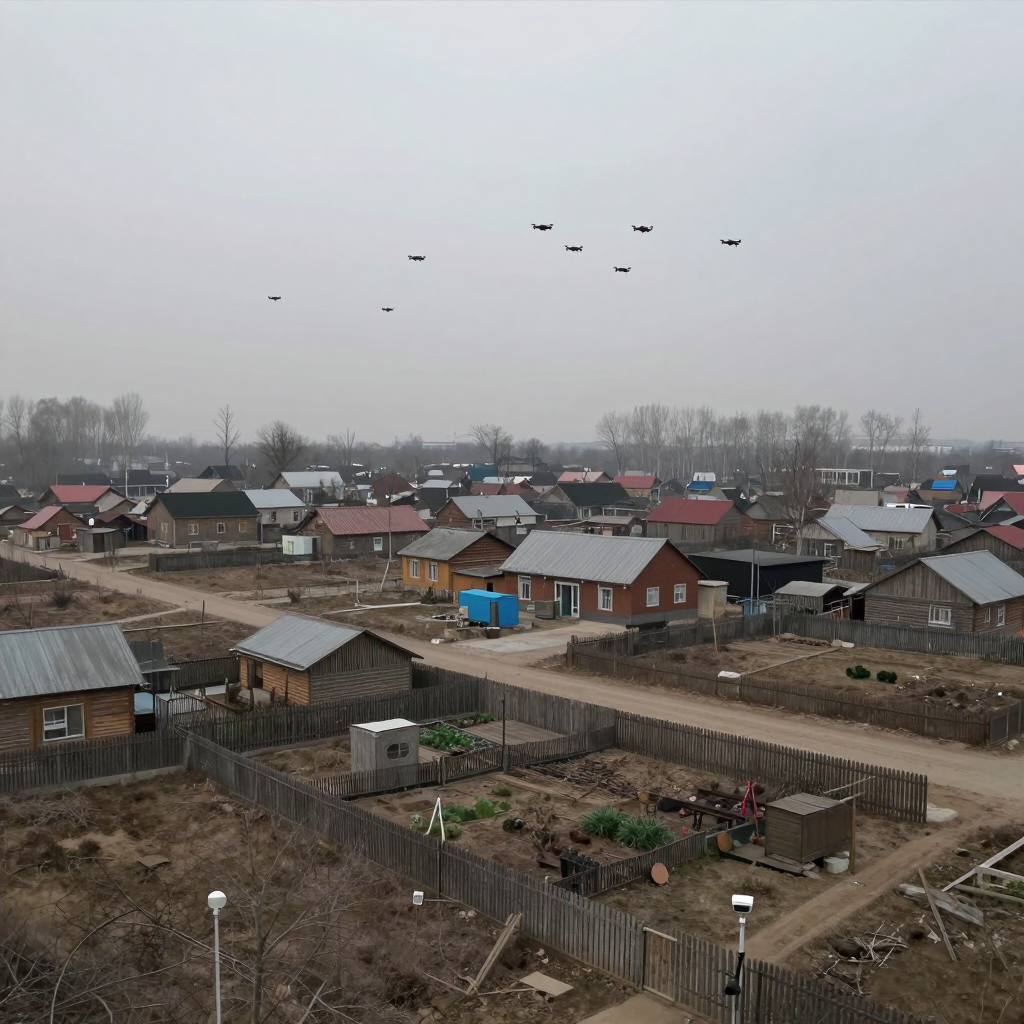drone: (631, 225, 653, 234), (720, 239, 741, 247), (531, 224, 553, 231), (564, 245, 583, 252), (613, 266, 632, 273), (409, 255, 426, 262), (268, 296, 281, 301), (382, 307, 394, 312)
